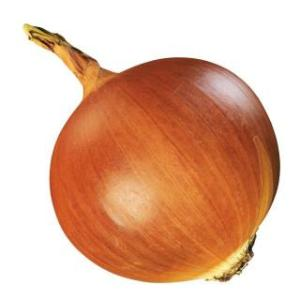onion: (20, 18, 284, 294)
